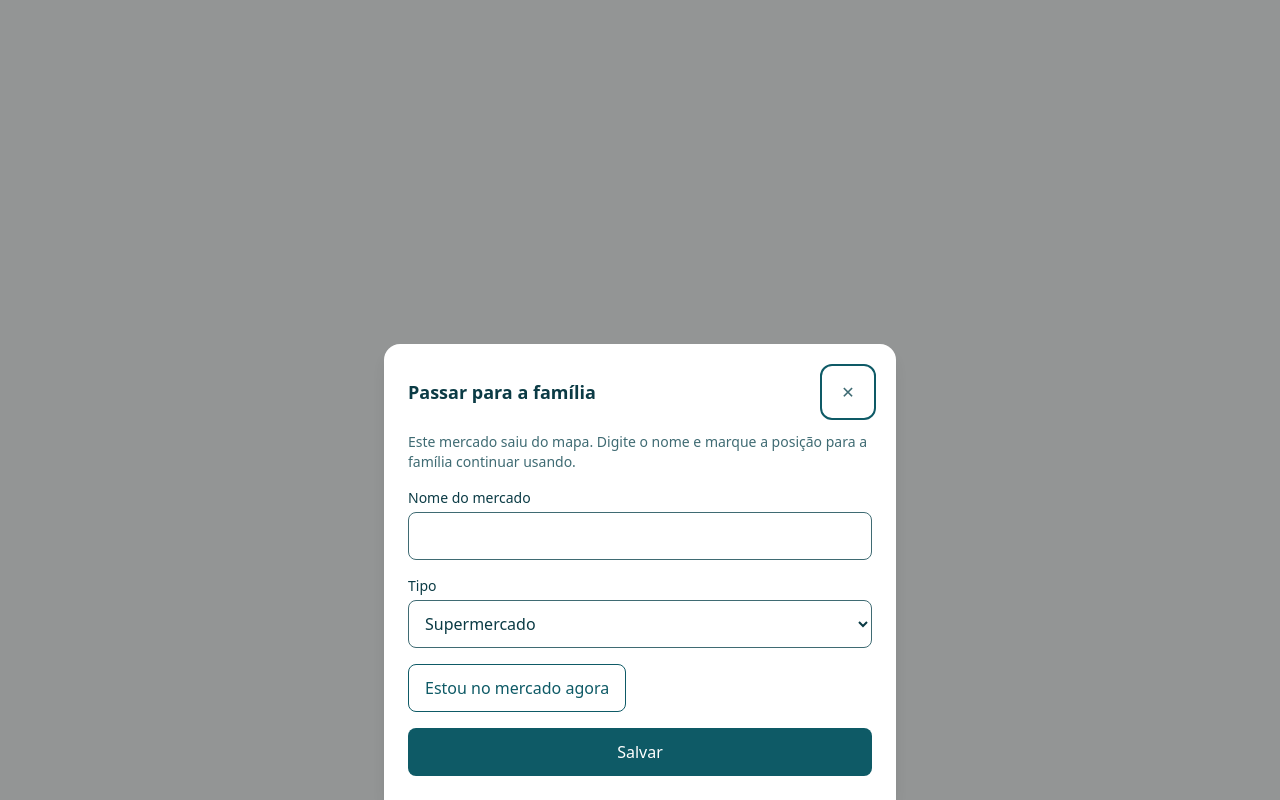
it: ConvertMarketSheet › sendsTypedNameOnly
This screenshot has width=1280, height=800.
Later steps or results of the test are not shown.
Type "Mercado Novo" into the field labelled "Nome do mercado". click: (640, 536)
box: [408,512,872,560]
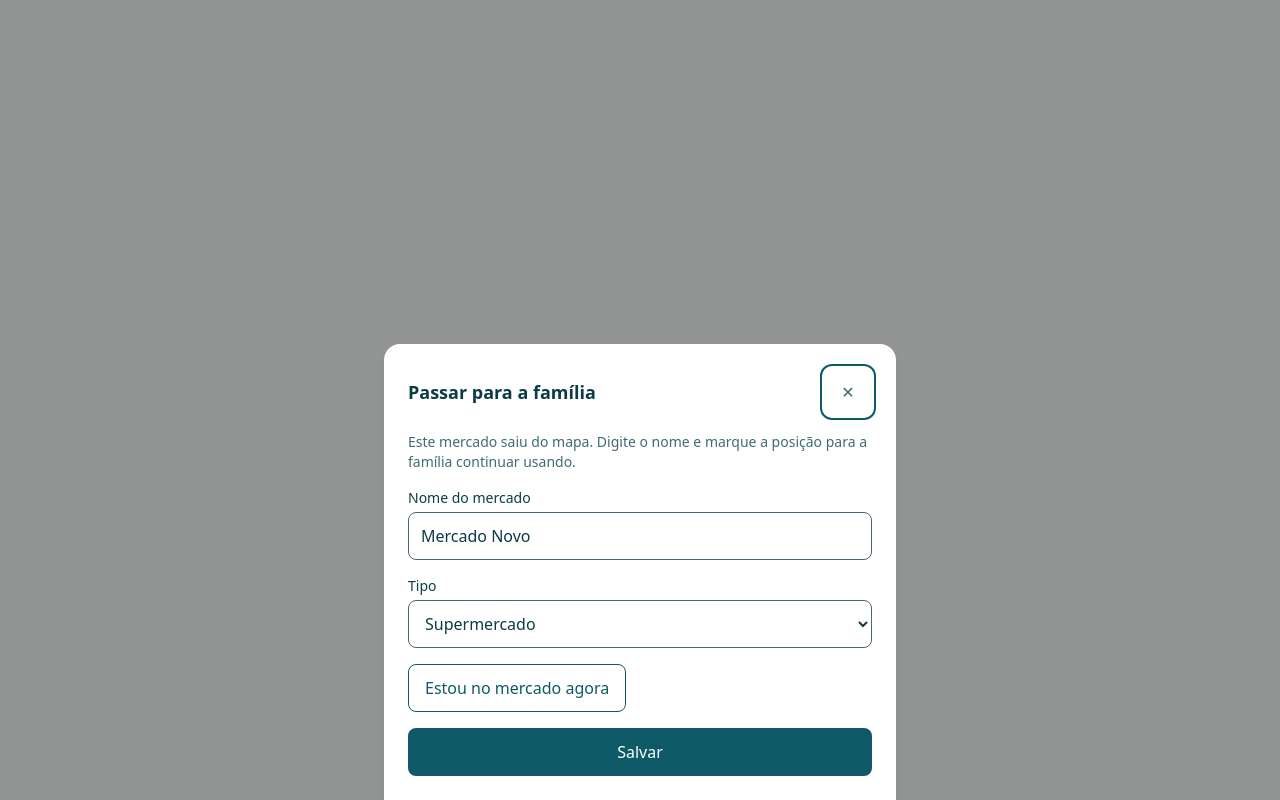
Select "Hortifruti" in the dropdown labelled "Tipo". click: (640, 624)
box: [408,600,872,648]
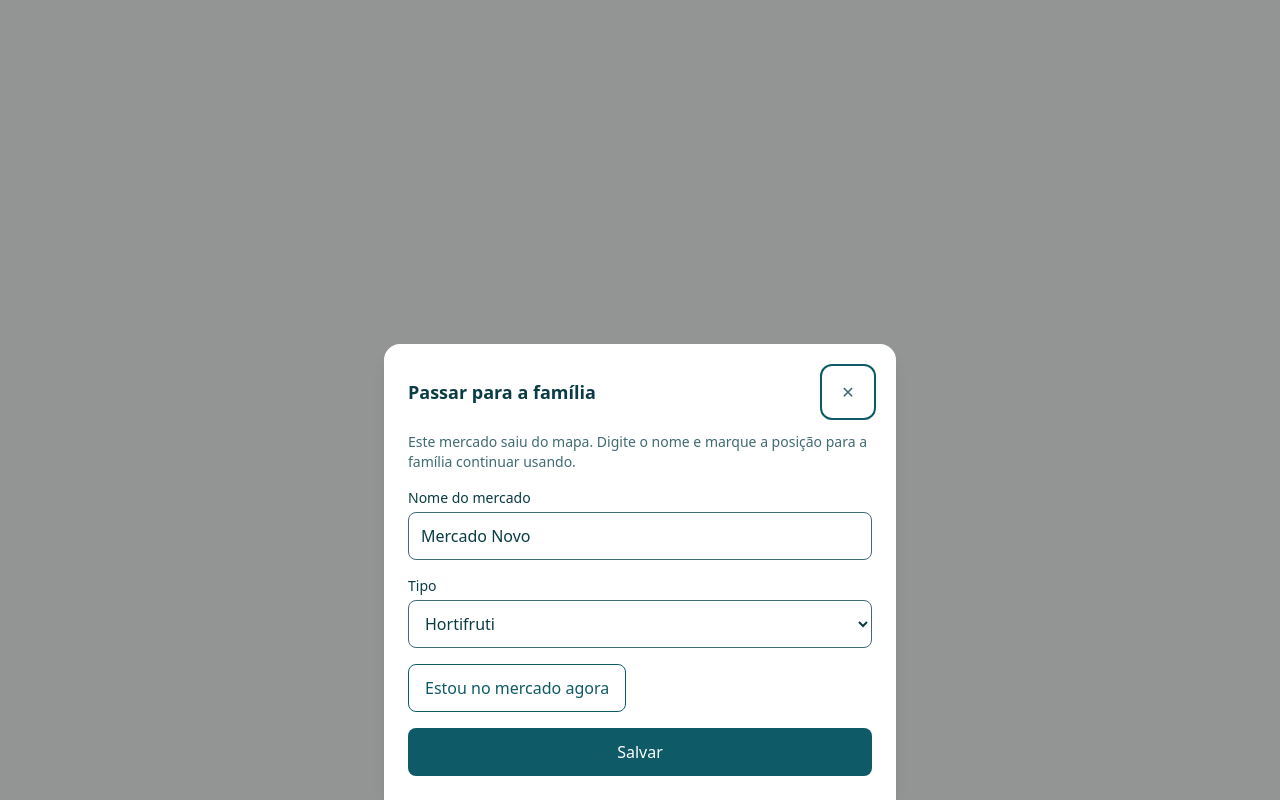
Click the button "Estou no mercado agora". click: (517, 688)
box: [408,664,626,712]
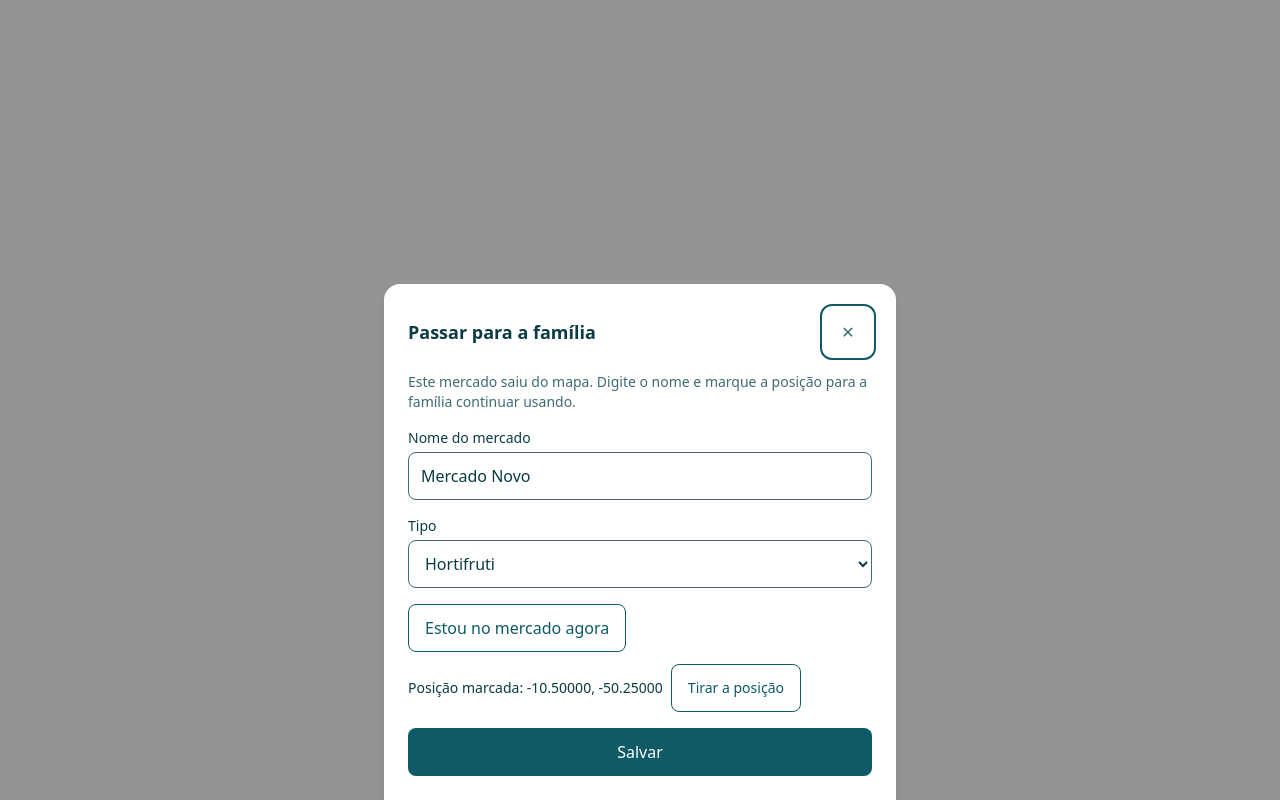
expect the text "Posição marcada: -10.50000, -50.25000 Tirar a posição" is shown: met, box [408,664,801,712]
